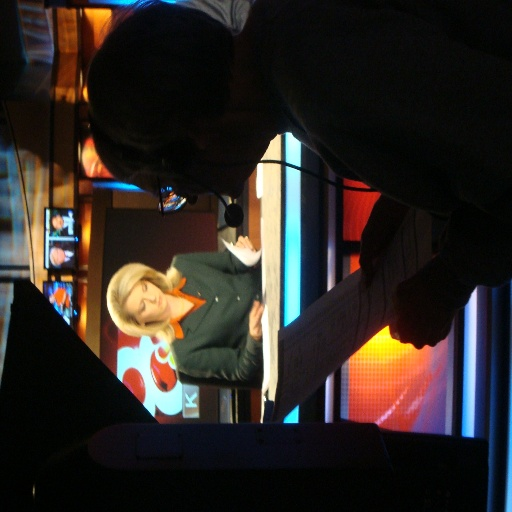hand: (388, 238, 463, 361), (360, 210, 398, 278), (248, 296, 265, 342), (235, 234, 254, 252)
